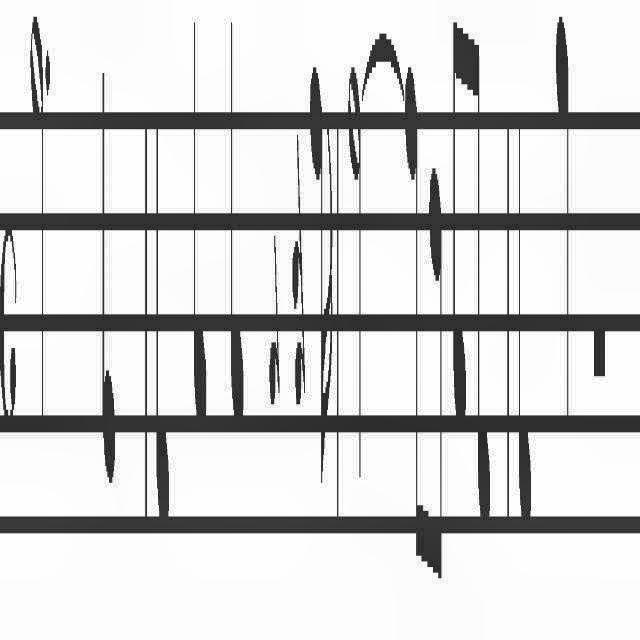Eighth-note: (468, 1, 492, 596), (403, 40, 421, 612), (426, 118, 446, 618), (449, 0, 469, 466)
Eighth-rest: (266, 202, 282, 466)
Half-note: (23, 0, 44, 460), (346, 1, 364, 512)
Quarter-note: (512, 2, 536, 598), (151, 50, 173, 544), (188, 0, 211, 460), (554, 0, 574, 506), (95, 67, 116, 539), (227, 0, 246, 506)
Sixteenth-note: (309, 22, 335, 534)
